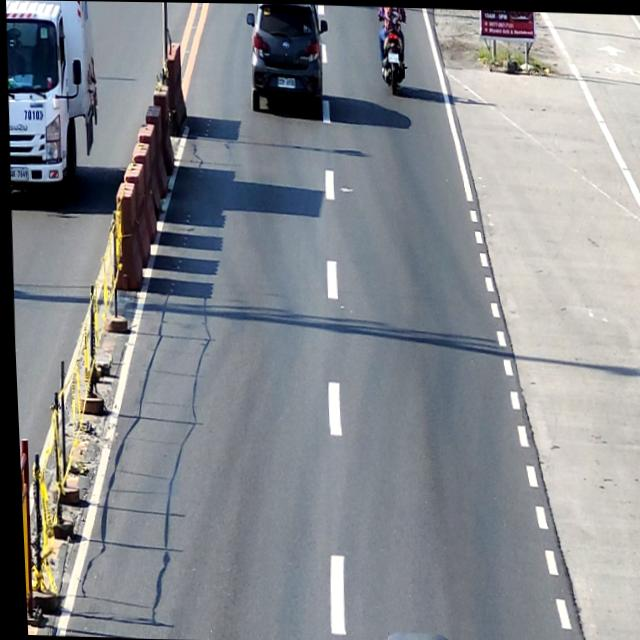Car: (243, 3, 331, 118)
License-Plate: (8, 167, 27, 181), (275, 76, 294, 87), (386, 51, 397, 61)
Motorcycle: (376, 13, 409, 92)
Truck: (2, 0, 102, 200)
